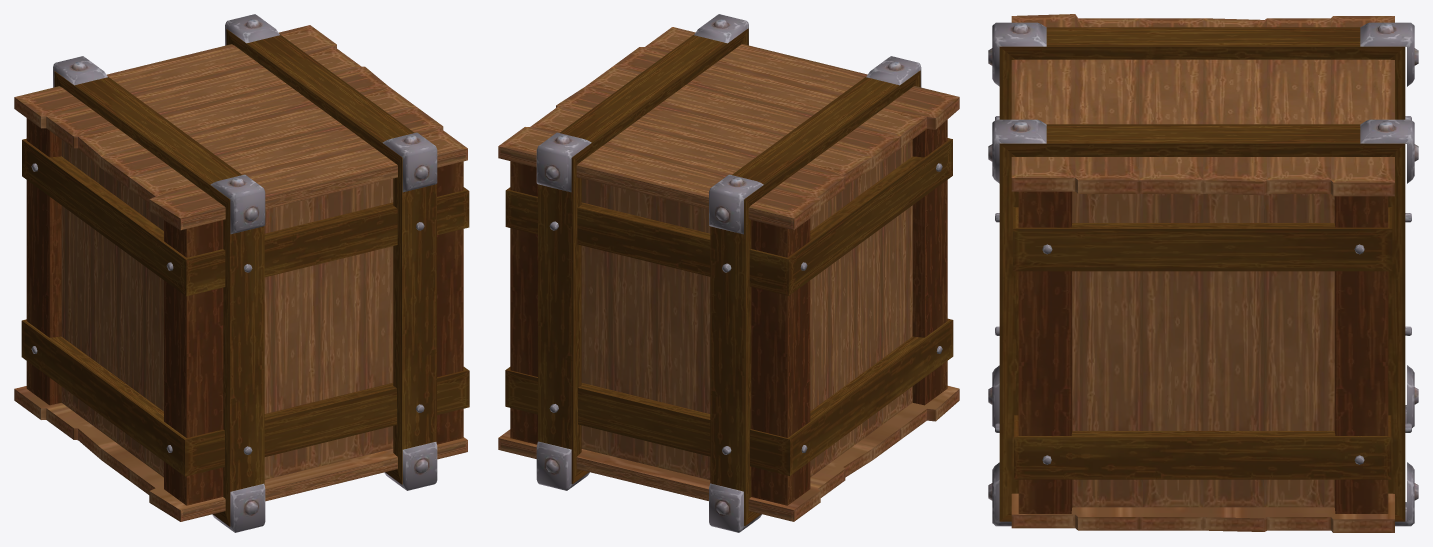
The model's file is crate-wooden.glb.
The picture shows the model from 3 angles, left to right: view 1: azimuth 30°, elevation 25°; view 2: azimuth 150°, elevation 25°; view 3: azimuth 270°, elevation 25°; orthographic projection. The views are drawn at different scales.
Parts seen in each view (by area): view 1: Crate_Wooden; view 2: Crate_Wooden; view 3: Crate_Wooden.
Part boxes in pixels (<box>): Crate_Wooden: <box>14,14,469,532</box>; Crate_Wooden: <box>498,14,959,532</box>; Crate_Wooden: <box>988,14,1418,532</box>.
Bounding box in the file's own units: 0.8422 × 0.9309 × 0.9083.
Materials: 2 (2 with a texture image).
